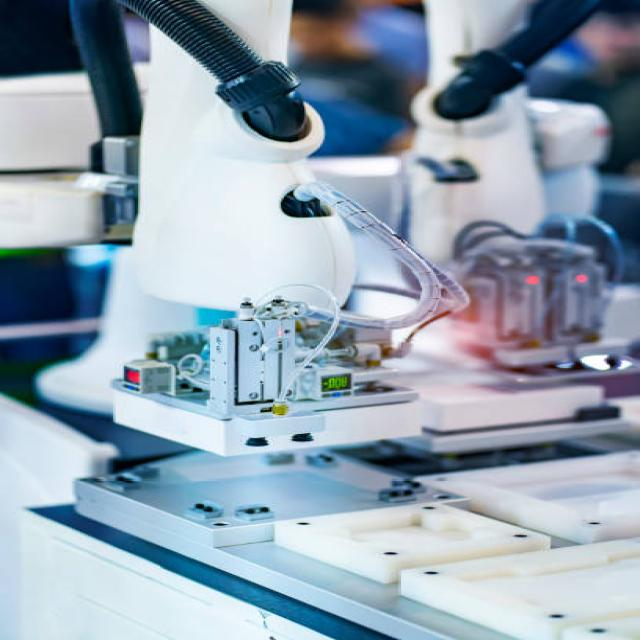Robotic-arm: (104, 0, 370, 488), (412, 0, 553, 285)
